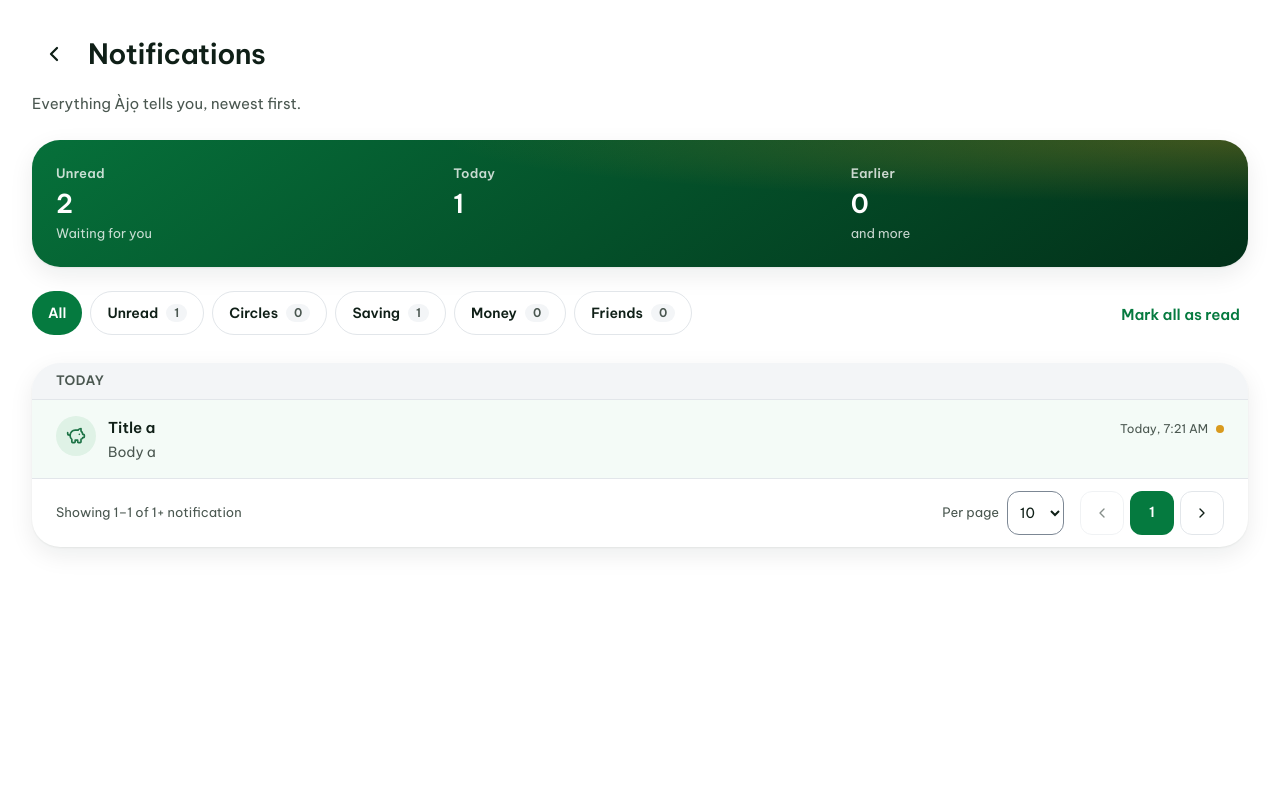
Test case: the messages screen › loads the next batch only when Next is pressed on the last page loaded
The image size is (1280, 800).
Expected: the text "Showing 1–1 of 1+ notification" is shown, [56, 504, 242, 520]
Step 1. Click the button named "Next page" → (1202, 512), box [1180, 490, 1224, 534]
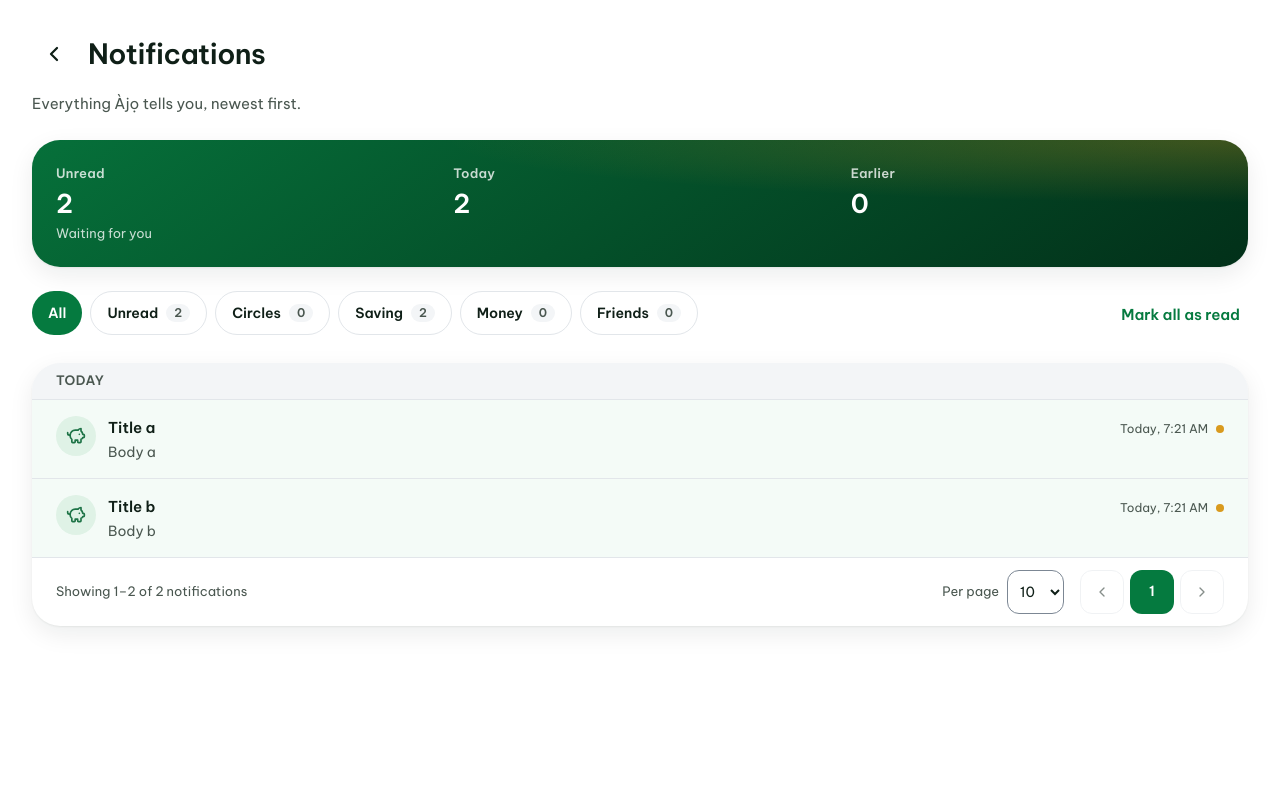
Expected: the button named "Next page" is disabled, [1180, 570, 1224, 614]
Result: the text "Title b" is shown at [108, 494, 156, 518]
